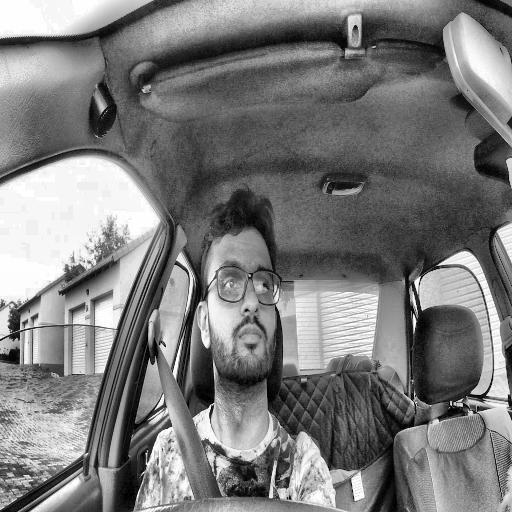awake: (196, 186, 282, 392)
